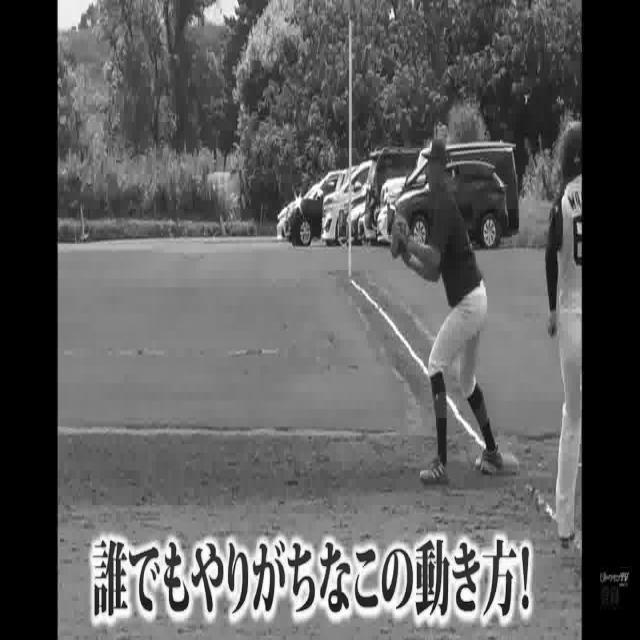baseball_glove: (390, 215, 408, 261), (558, 517, 574, 548)
shoe: (421, 456, 447, 486), (479, 443, 505, 472)
